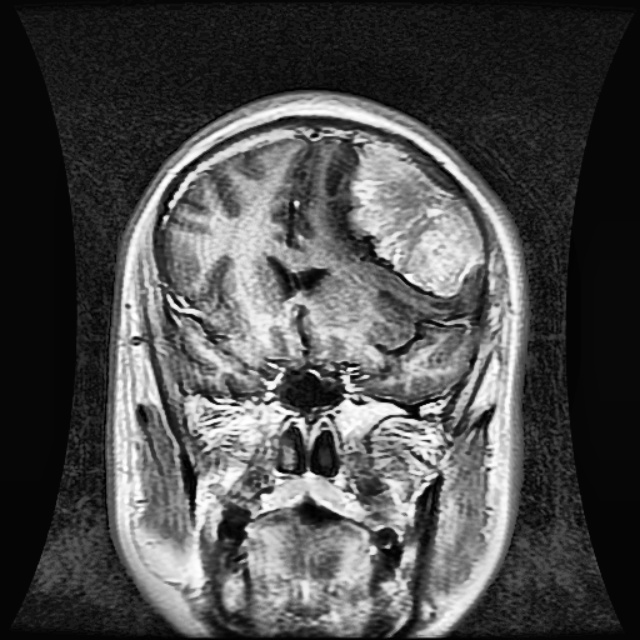Glioma: (347, 142, 484, 295)
